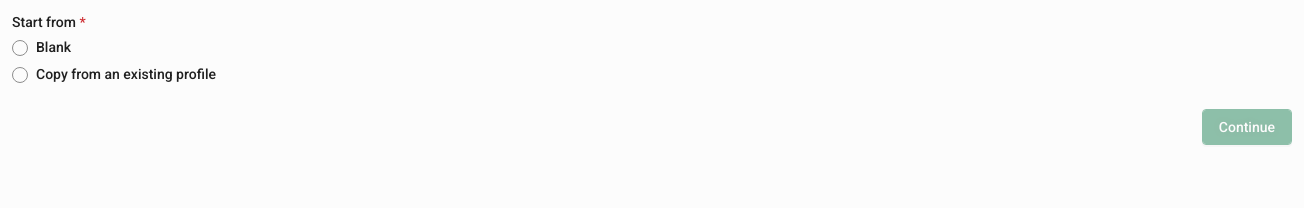
Test: StartChooser › at the limit shows the hint and stays
The image size is (1304, 208).
Click the radio button named "Blank" next to "Blank".
click(20, 48)  # box [12, 40, 28, 56]
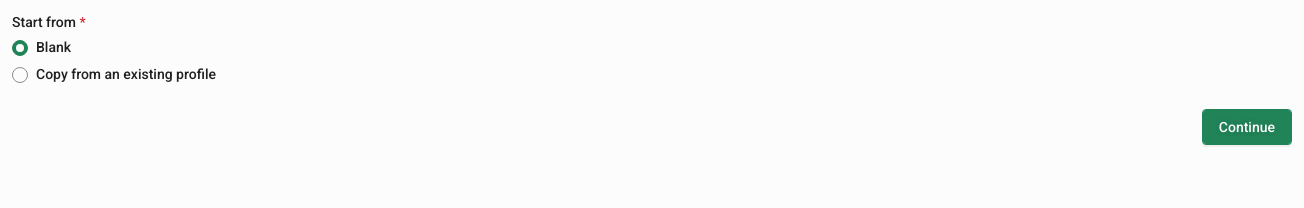
Click the button "Continue".
click(1247, 126)  # box [1202, 108, 1292, 144]
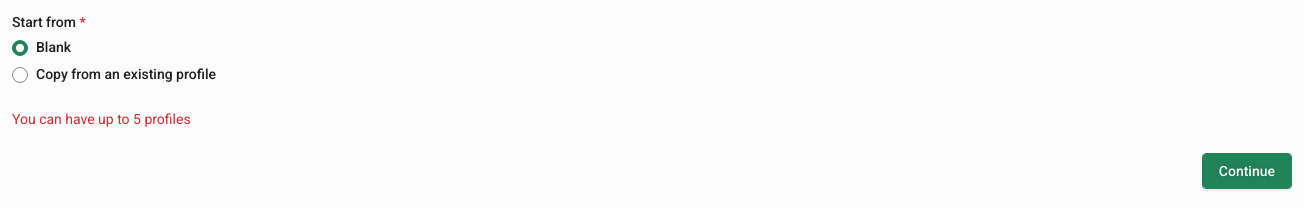
Result: the message reads "You can have up to 5 profiles" at [12, 110, 191, 126]
